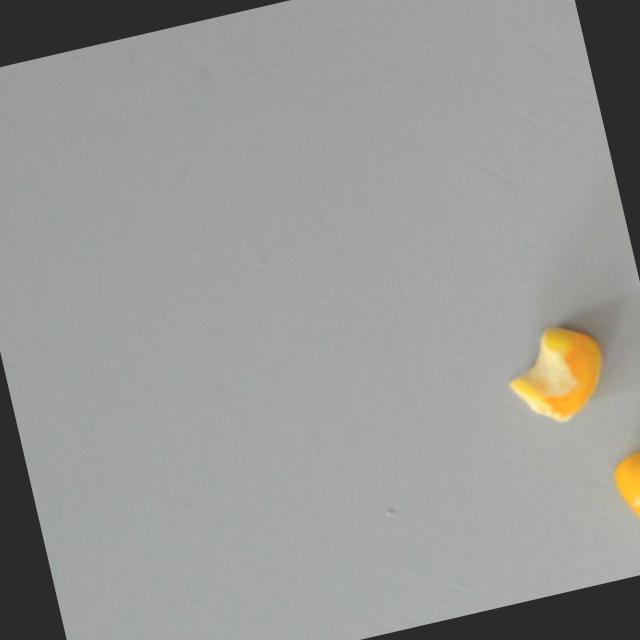no_canjicado: (605, 446, 640, 536)
pelicula: (498, 314, 615, 431)
